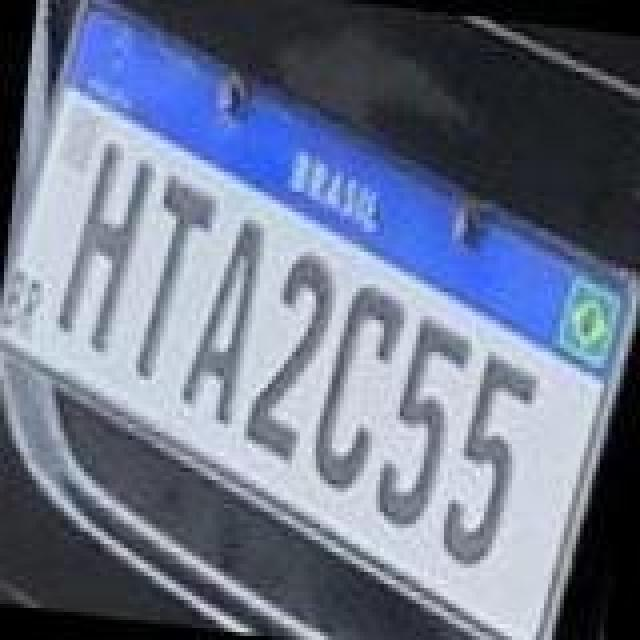2: (236, 240, 340, 464)
5: (436, 346, 540, 574), (372, 308, 476, 532)
A: (178, 210, 270, 430)
C: (308, 278, 412, 498)
H: (50, 138, 158, 358)
T: (130, 172, 222, 388)
